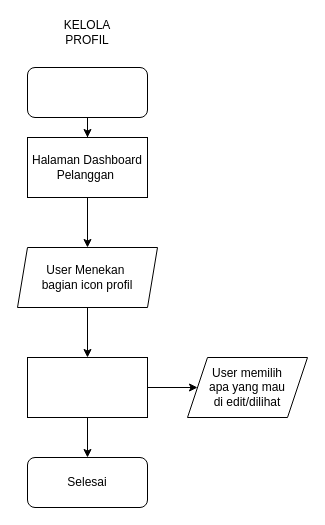
The diagram is 325 pixels wide and 525 high, and some of its shapes have lost their labels. Here are the shapes that lost their labels. From the top down, the box of each, then its label:
(26, 66, 148, 118): Mulai
(26, 356, 148, 418): Halaman Profil Pelanggan
